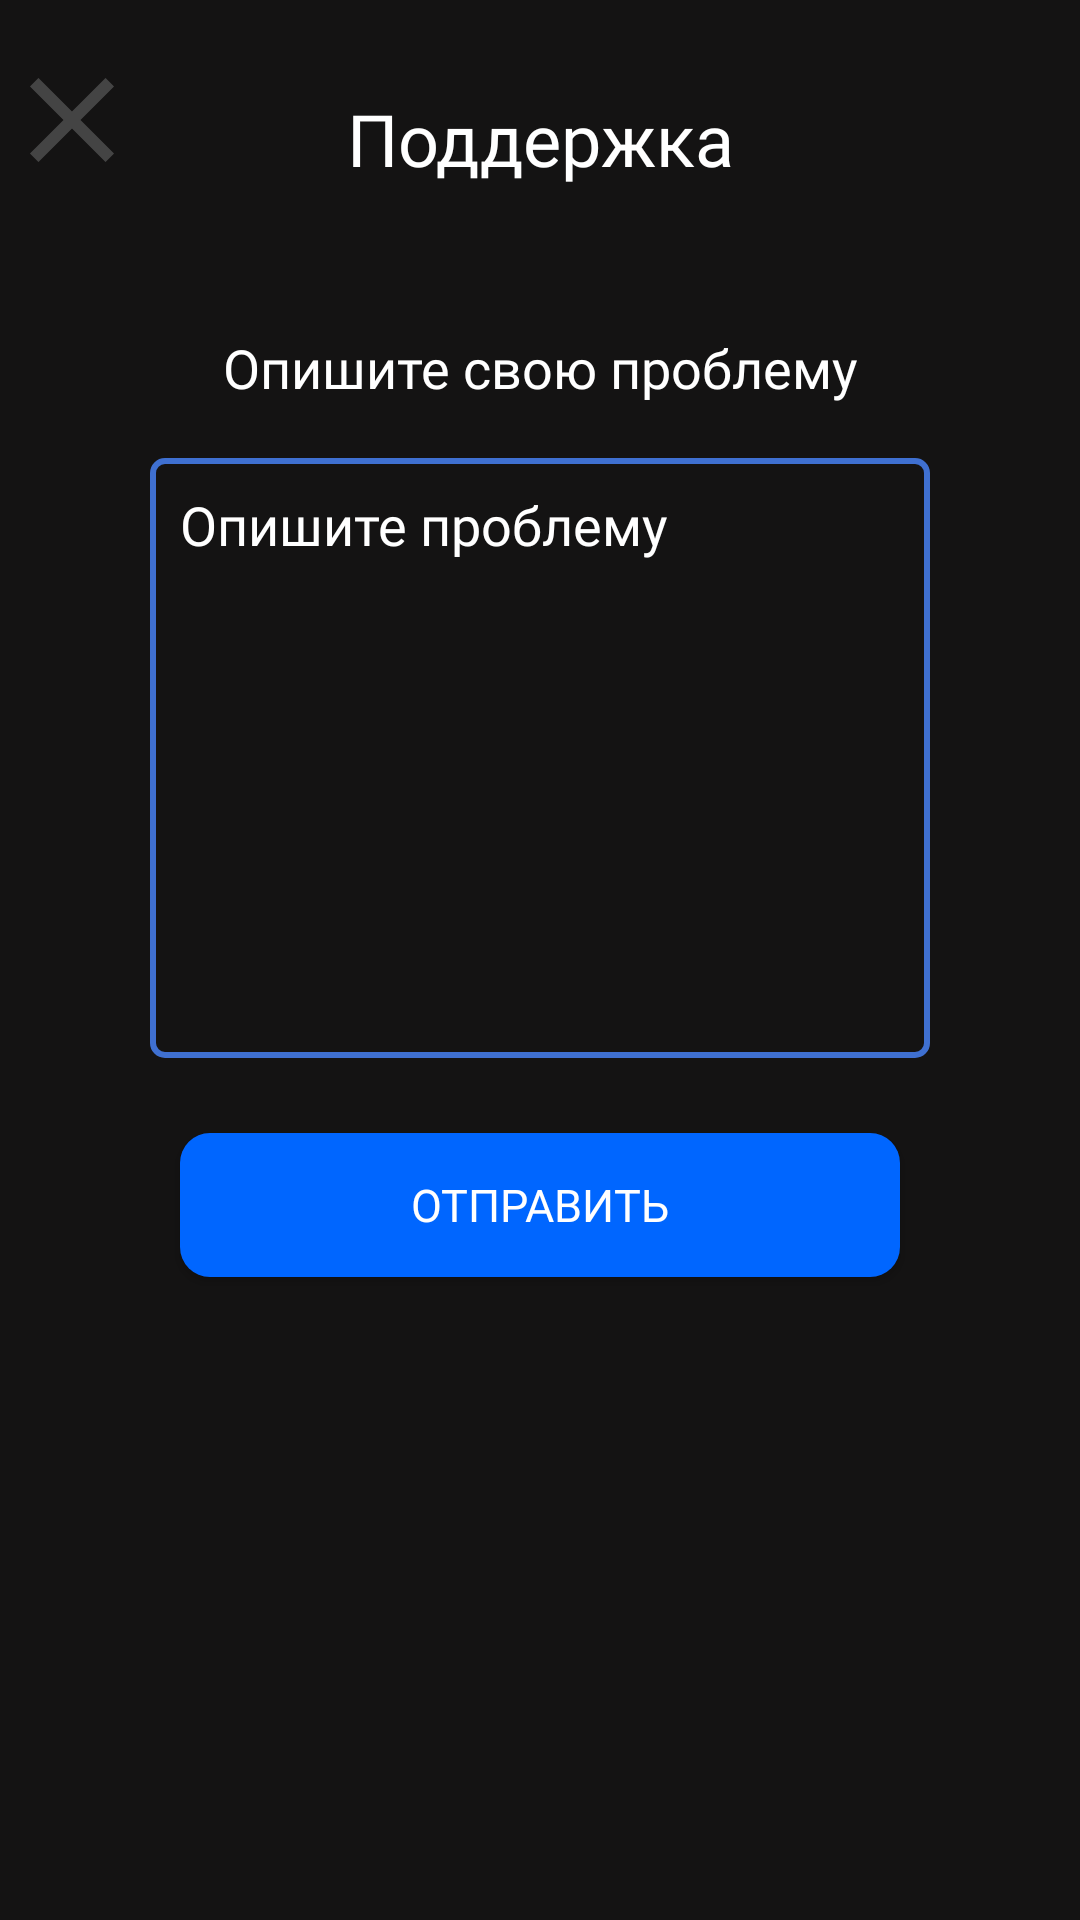

Where icons sit on this 1080w x 1920h app screen, as (x1, y1, x2, y2):
Close: (30, 78, 114, 162)
